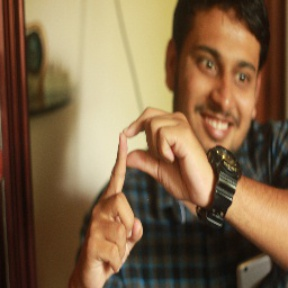P: (78, 104, 200, 269)
